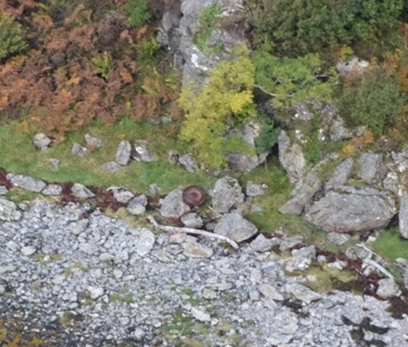tube: (145, 213, 240, 253)
white_in_green: (167, 172, 220, 216)
